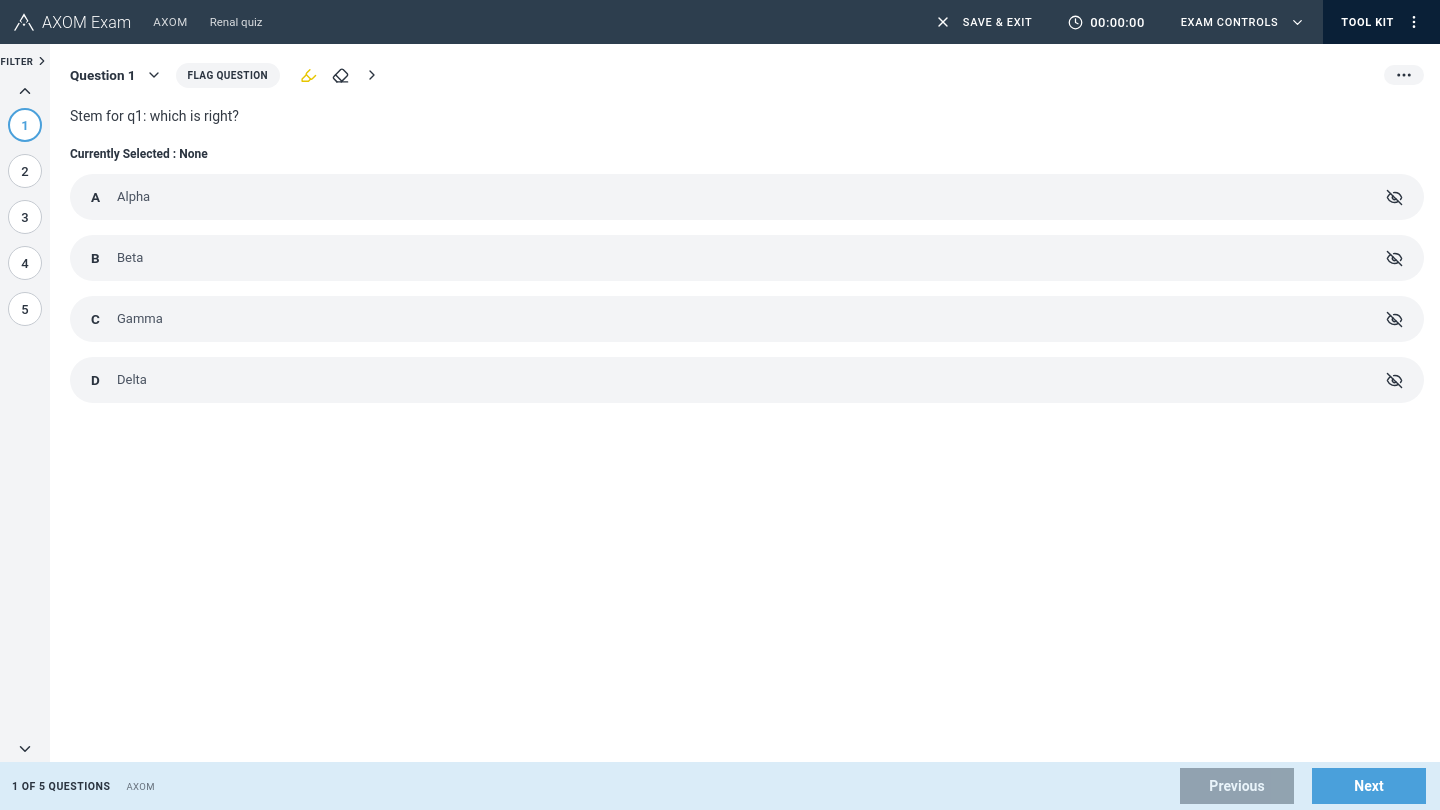
Examplify interface › selects an answer, shows it as currently selected, and clears it on a second click
Click the radio button with aria-label "B. Beta": (95, 258) 71,236 -> 1365,280
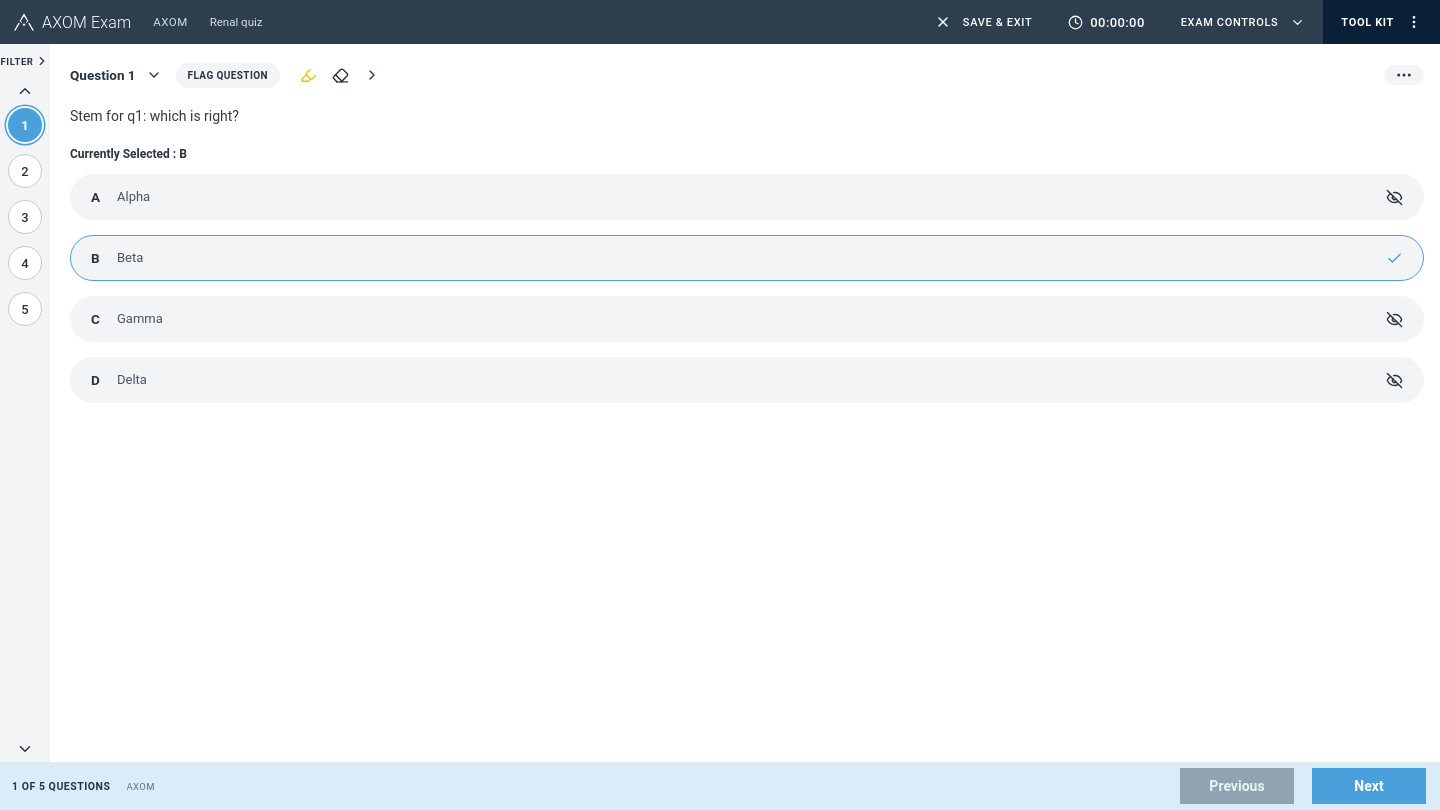
Expected: the icon with class "lucide-check" is shown, 1386,250 -> 1402,266
Result: the text "Currently Selected : B" is shown at 70,145 -> 187,163
Click the radio button with aria-label "B. Beta": (95, 258) 71,236 -> 1365,280
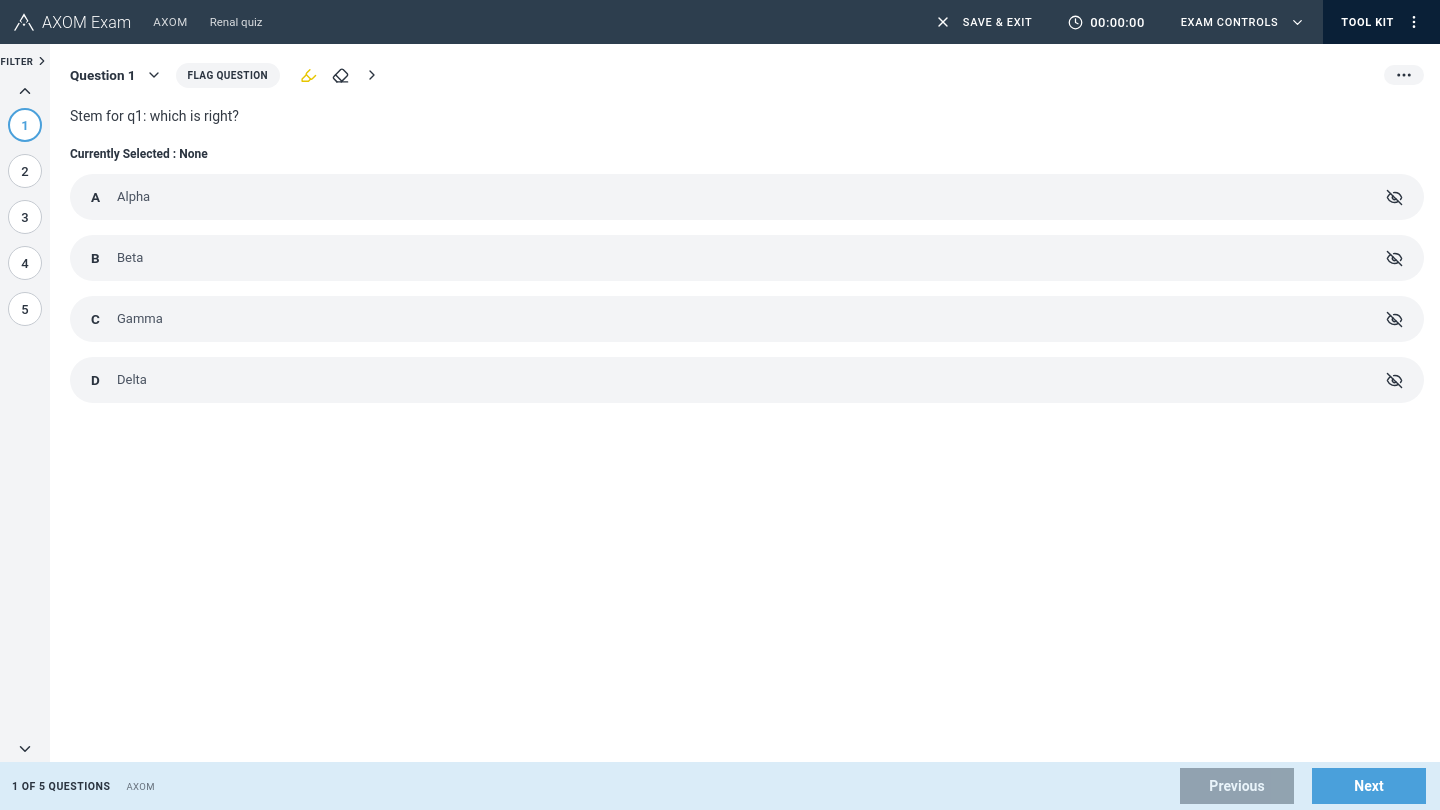
Result: the text "Currently Selected : None" is shown at 70,145 -> 208,163
